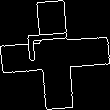L_E: (29, 37, 81, 73)
